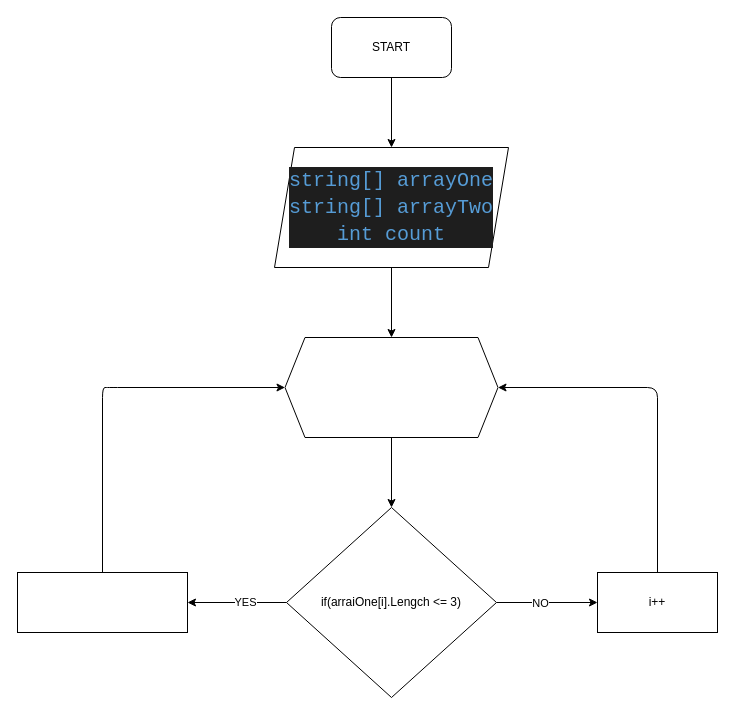
Image size: 735x715. Some labels were removed from this diagram. The shapes that lost their labels are listed below. From the top down, each one's box as (x1, y1, x2, y2) in pixels, then its label:
(284, 336, 498, 438): for(int i = 0; i < arrayOne.Lenghs; i++)
(16, 572, 188, 632): arrayTwo[count] = arrayOne[i] count++
